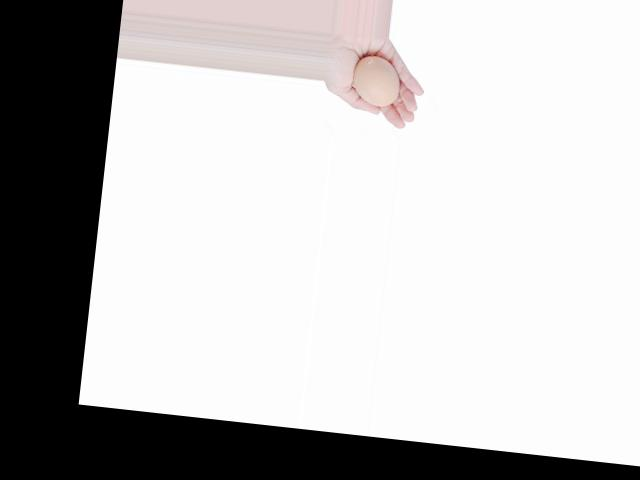egg: (350, 54, 403, 108)
